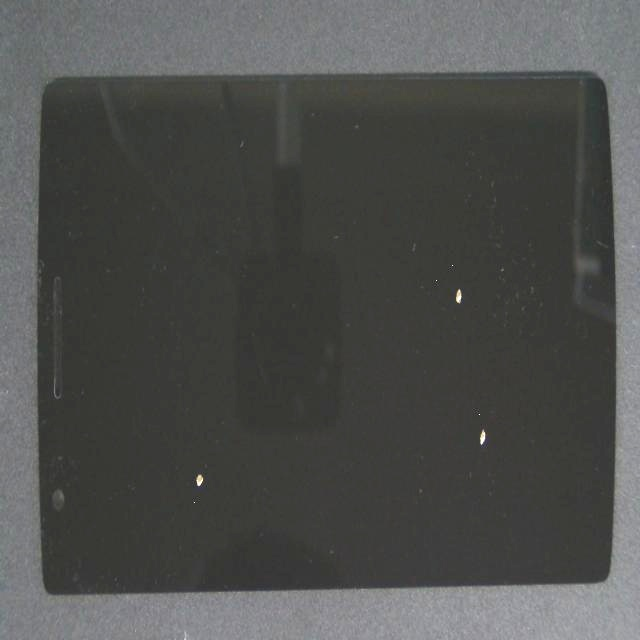stain: (228, 191, 640, 640), (215, 106, 640, 427), (83, 236, 276, 640)
